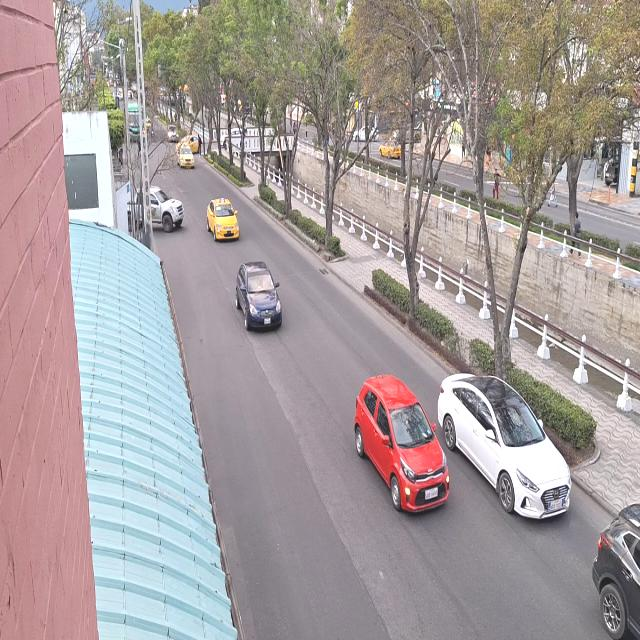CMT: (128, 185, 184, 232)
SED: (440, 372, 570, 521), (358, 381, 450, 513), (233, 265, 280, 331), (207, 200, 239, 241), (176, 143, 195, 171)
